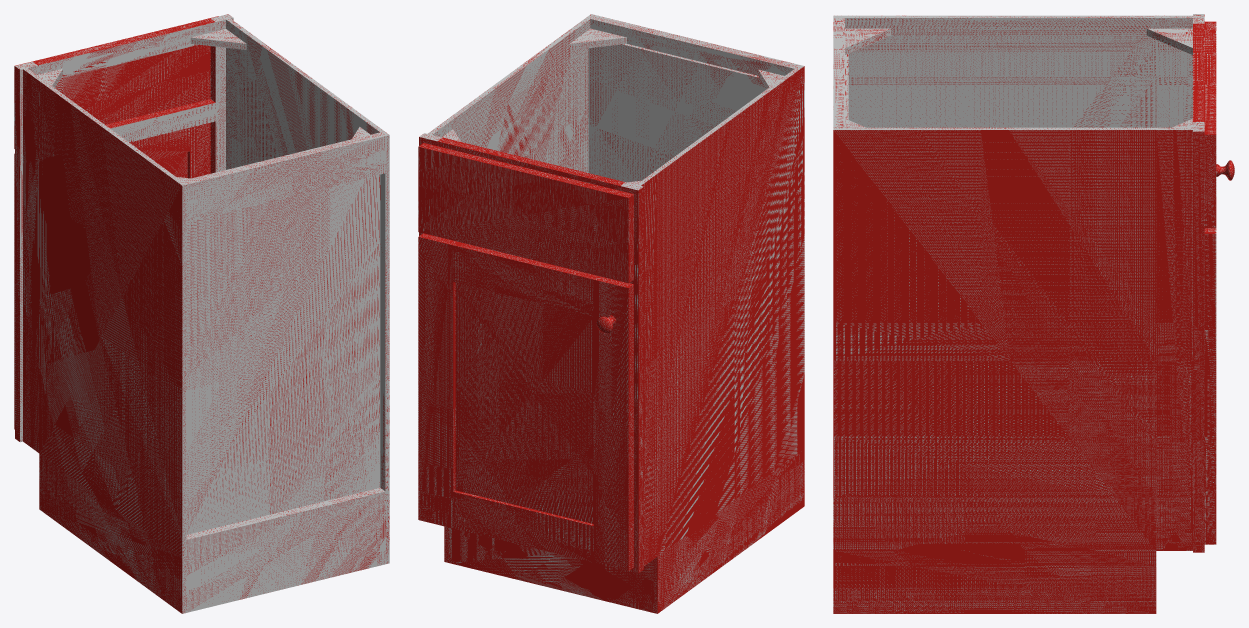
3 views of the same model, side by side, from view 1: azimuth 30°, elevation 25°; view 2: azimuth 150°, elevation 25°; view 3: azimuth 270°, elevation 25° (orthographic). The views are drawn at different scales.
Visible parts, largest first — view 1: mesh4_mesh4-geometry, mesh7_mesh7-geometry, mesh12_mesh12-geometry, mesh10_mesh10-geometry, mesh3_mesh3-geometry, mesh8_mesh8-geometry, mesh18_mesh18-geometry, mesh6_mesh6-geometry, mesh5_mesh5-geometry, mesh2_mesh2-geometry, mesh25_mesh25-geometry, mesh9_mesh9-geometry (+4 smaller); view 2: mesh7_mesh7-geometry, mesh19_mesh19-geometry, mesh18_mesh18-geometry, mesh4_mesh4-geometry, mesh10_mesh10-geometry, mesh22_mesh22-geometry, mesh21_mesh21-geometry, mesh8_mesh8-geometry, mesh13_mesh13-geometry, mesh23_mesh23-geometry, mesh20_mesh20-geometry, mesh6_mesh6-geometry (+4 smaller); view 3: mesh10_mesh10-geometry, mesh7_mesh7-geometry, mesh11_mesh11-geometry, mesh9_mesh9-geometry, mesh2_mesh2-geometry, mesh21_mesh21-geometry, mesh6_mesh6-geometry, mesh18_mesh18-geometry, mesh3_mesh3-geometry, mesh5_mesh5-geometry, mesh16_mesh16-geometry, mesh17_mesh17-geometry.
Part boxes in pixels (x1,y1,x2,y2): mesh4_mesh4-geometry: [186, 174, 380, 534]; mesh7_mesh7-geometry: [39, 80, 186, 557]; mesh12_mesh12-geometry: [186, 488, 385, 612]; mesh10_mesh10-geometry: [242, 30, 389, 508]; mesh3_mesh3-geometry: [182, 132, 385, 221]; mesh8_mesh8-geometry: [39, 454, 186, 613]; mesh18_mesh18-geometry: [14, 16, 218, 148]; mesh6_mesh6-geometry: [23, 68, 43, 452]; mesh5_mesh5-geometry: [33, 18, 215, 142]; mesh2_mesh2-geometry: [15, 14, 233, 442]; mesh25_mesh25-geometry: [307, 439, 378, 504]; mesh9_mesh9-geometry: [226, 18, 246, 169]; mesh7_mesh7-geometry: [653, 65, 804, 555]; mesh19_mesh19-geometry: [455, 283, 593, 523]; mesh18_mesh18-geometry: [418, 143, 633, 283]; mesh4_mesh4-geometry: [588, 44, 766, 182]; mesh10_mesh10-geometry: [444, 14, 595, 172]; mesh22_mesh22-geometry: [593, 276, 633, 571]; mesh21_mesh21-geometry: [418, 233, 457, 528]; mesh8_mesh8-geometry: [653, 449, 804, 613]; mesh13_mesh13-geometry: [448, 527, 652, 612]; mesh23_mesh23-geometry: [453, 242, 597, 316]; mesh20_mesh20-geometry: [453, 490, 593, 562]; mesh6_mesh6-geometry: [636, 172, 657, 565]; mesh10_mesh10-geometry: [833, 127, 1156, 550]; mesh7_mesh7-geometry: [833, 15, 1156, 127]; mesh11_mesh11-geometry: [833, 551, 1156, 613]; mesh9_mesh9-geometry: [1156, 127, 1192, 550]; mesh2_mesh2-geometry: [1193, 14, 1204, 552]; mesh21_mesh21-geometry: [1204, 228, 1216, 544]; mesh6_mesh6-geometry: [1156, 15, 1192, 127]; mesh18_mesh18-geometry: [1204, 21, 1216, 228]; mesh3_mesh3-geometry: [833, 18, 844, 127]; mesh5_mesh5-geometry: [1193, 23, 1204, 121]; mesh16_mesh16-geometry: [1146, 28, 1192, 54]; mesh17_mesh17-geometry: [845, 28, 891, 54].
Size of the model in its own units: 0.3849 by 0.7377 by 0.5546.
